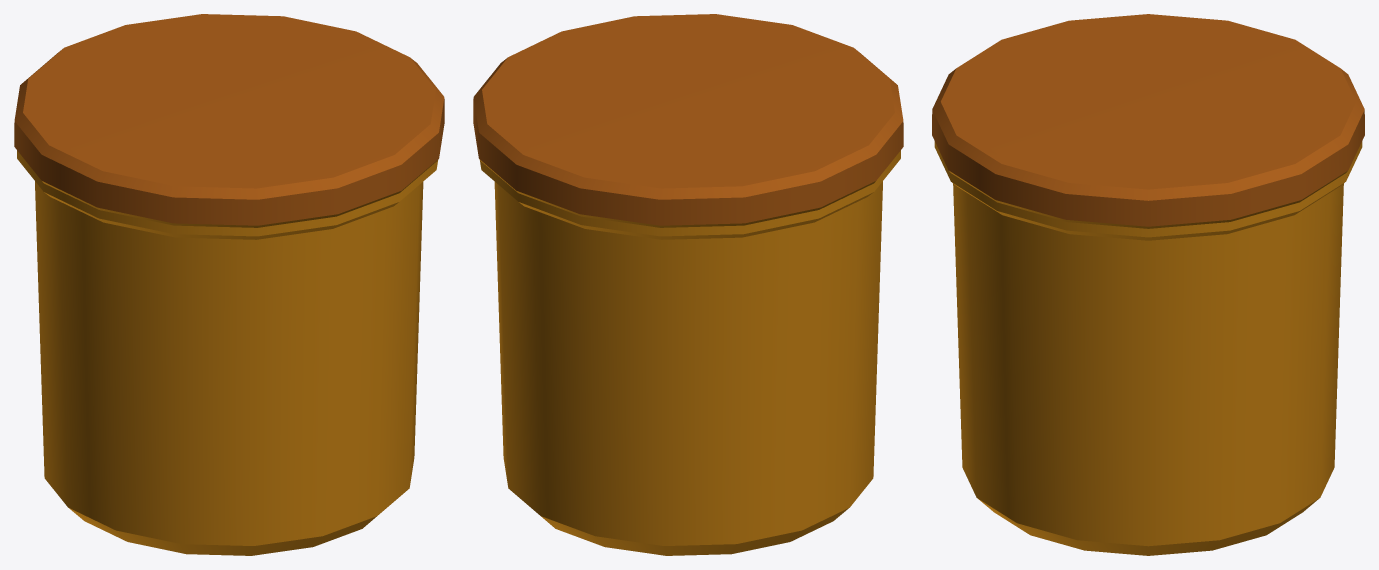
Rendered from YellowJar.glb.
3 renders of one model, left to right at view 1: azimuth 30°, elevation 25°; view 2: azimuth 150°, elevation 25°; view 3: azimuth 270°, elevation 25°, orthographic.
Visible parts, largest first — view 1: YellowJar; view 2: YellowJar; view 3: YellowJar.
Part boxes in pixels (x1,y1,x2,y2): YellowJar: (14, 14, 444, 555); YellowJar: (473, 14, 903, 555); YellowJar: (932, 14, 1364, 555).
Bounding box in the file's own units: 0.1543 × 0.1509 × 0.1543.
1 material, 1 textured.
